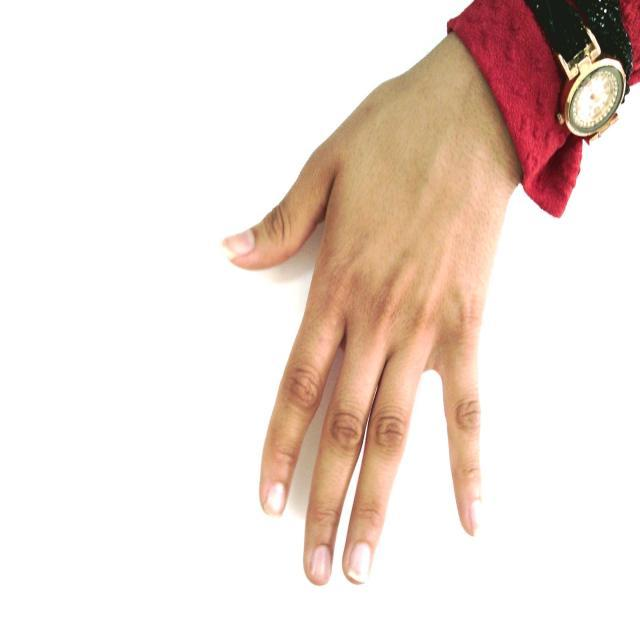Fingernail: (348, 543, 371, 584), (222, 231, 255, 259), (265, 483, 286, 519), (311, 546, 331, 580), (470, 501, 484, 537)
